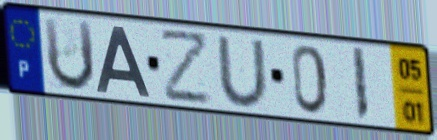0: (290, 43, 329, 115)
A: (94, 23, 153, 100)
I: (349, 45, 371, 125)
U: (40, 14, 97, 94), (213, 34, 271, 110)
Z: (158, 29, 214, 106)
